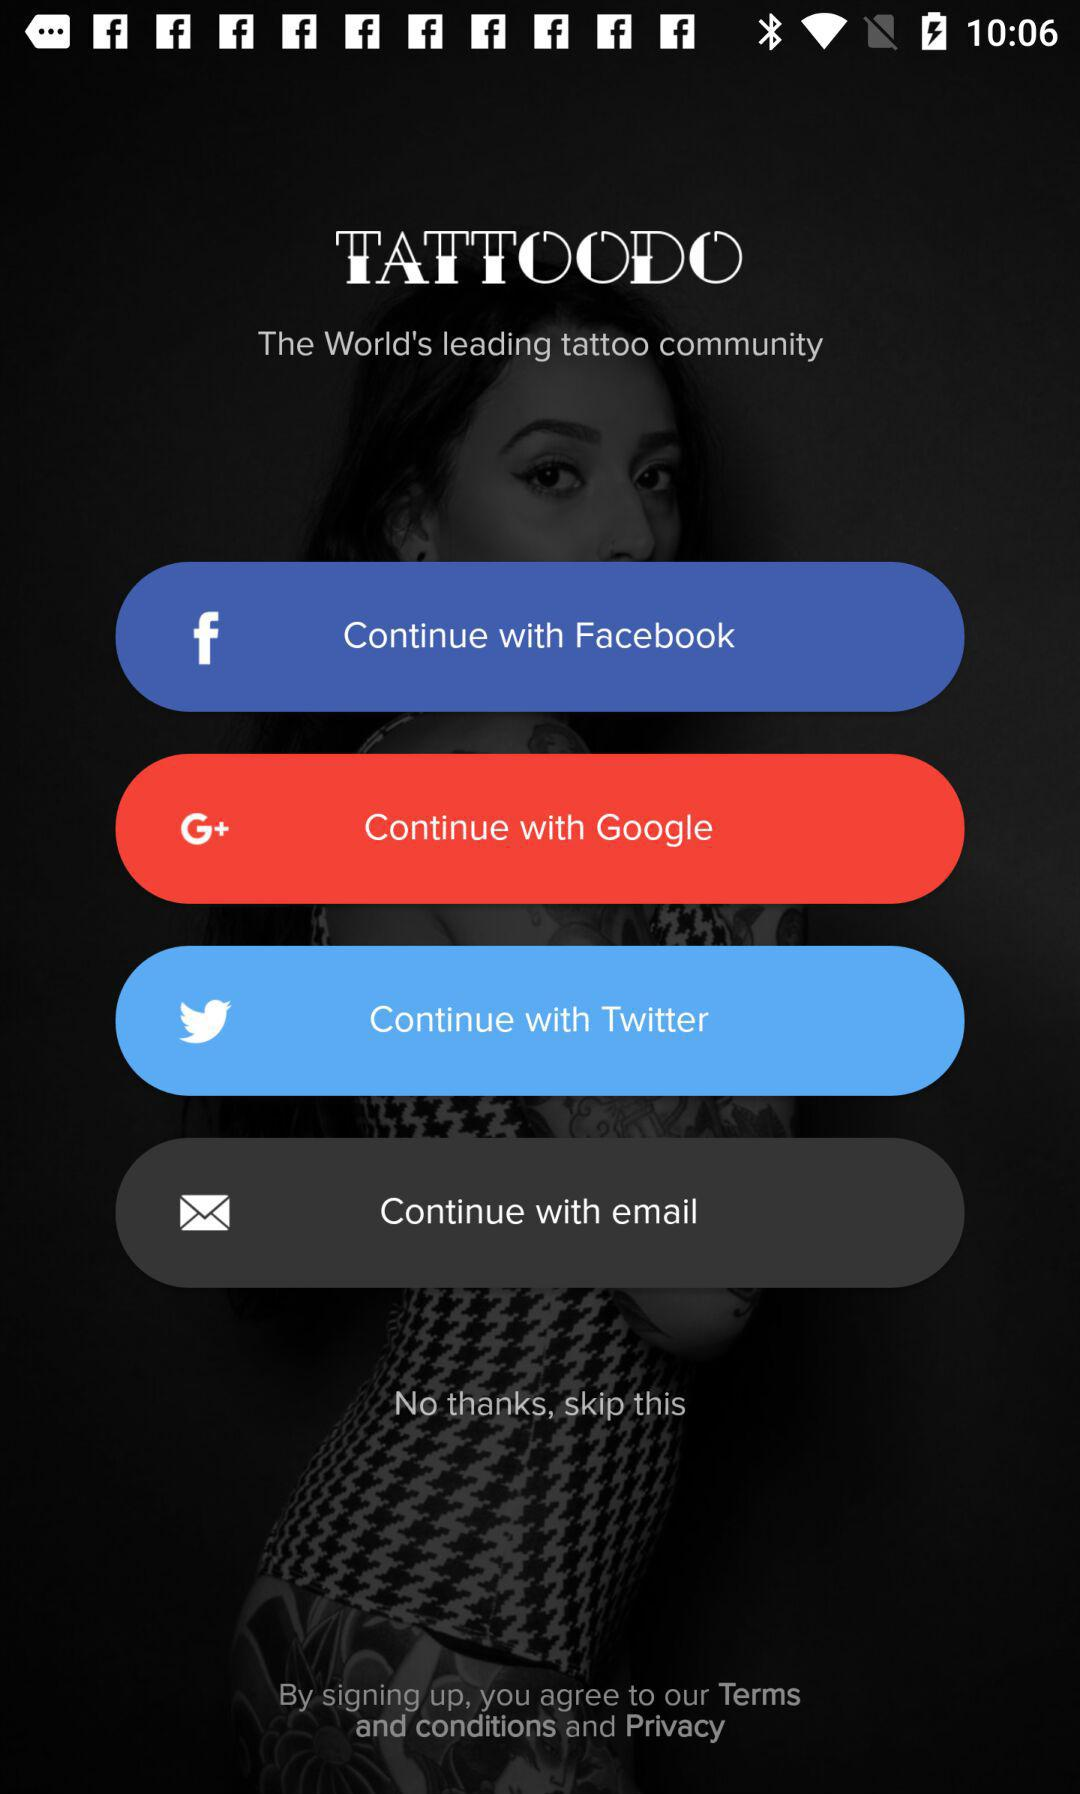BackgroundImage: (1, 53, 1080, 1794)
Image: (336, 231, 743, 286)
Text: (281, 1683, 801, 1744), (258, 331, 824, 364), (396, 1390, 685, 1422)
TextButton: (115, 1138, 965, 1289), (117, 946, 966, 1097), (117, 753, 965, 905), (117, 563, 965, 712)
UpperTaskBar: (1, 1, 1080, 53)
